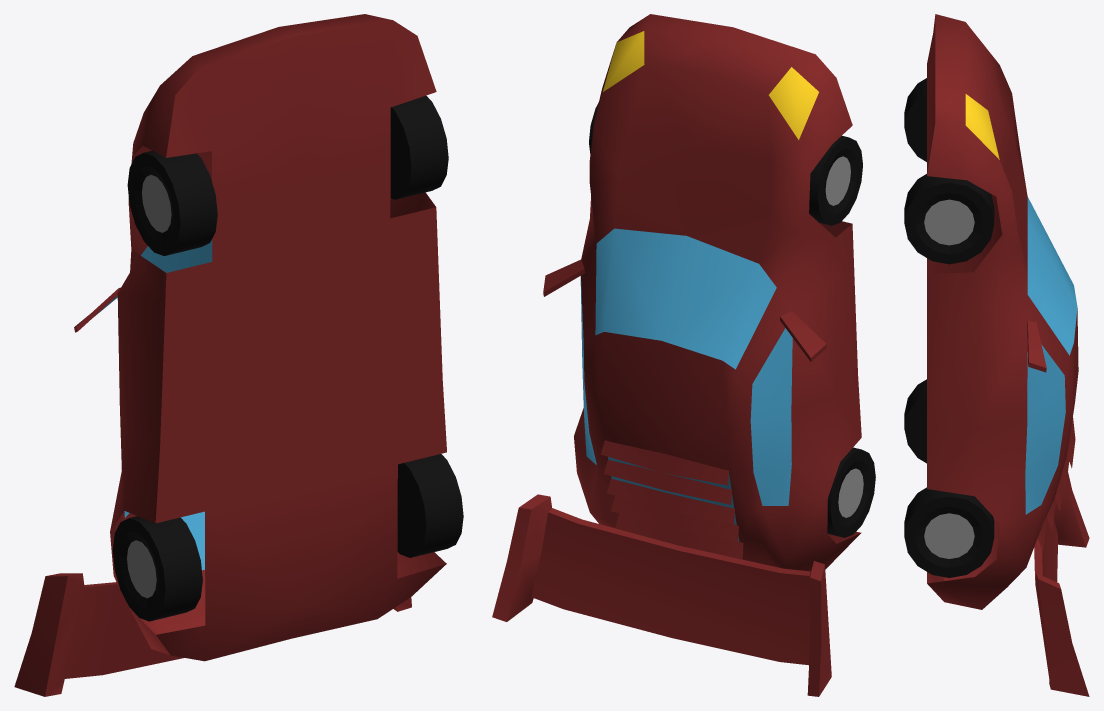
File: Car.FBX
The picture shows the model from 3 angles, left to right: view 1: azimuth 30°, elevation 25°; view 2: azimuth 150°, elevation 25°; view 3: azimuth 270°, elevation 25°; orthographic projection. The views are drawn at different scales.
Parts seen in each view (by area): view 1: Car, Wheel_RR, Wheel_FR, Wheel_RL, Wheel_FL; view 2: Car, Wheel_FR, Wheel_RR; view 3: Car, Wheel_FL, Wheel_RL, Wheel_FR, Wheel_RR.
Part boxes in pixels (x1,y1,x2,y2): Car: (14,14,446,696); Wheel_RR: (112,516,202,621); Wheel_FR: (127,150,217,255); Wheel_RL: (397,454,463,557); Wheel_FL: (390,95,448,199); Car: (492,14,861,696); Wheel_FR: (809,136,862,225); Wheel_RR: (827,447,875,537); Car: (927,14,1089,696); Wheel_FL: (904,174,994,264); Wheel_RL: (904,487,994,577); Wheel_FR: (904,78,926,161); Wheel_RR: (904,379,926,463).
Size of the model in its own units: 257 by 433 by 127.
